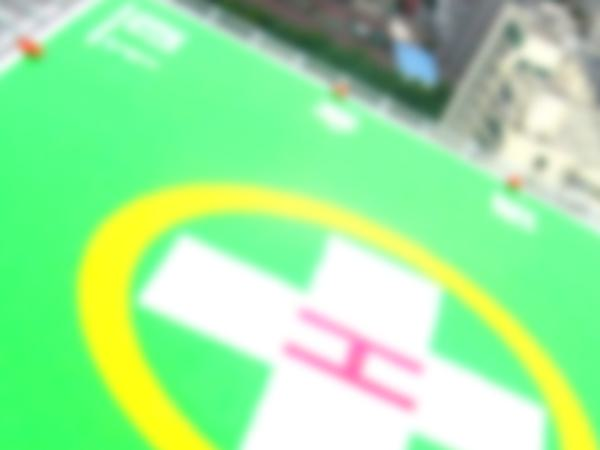Apron: (66, 164, 600, 450)
